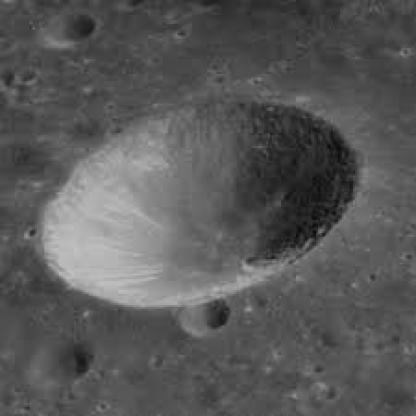craters: (22, 98, 388, 309), (22, 333, 104, 394), (33, 0, 104, 54), (176, 294, 246, 348), (303, 375, 344, 409), (0, 54, 17, 107), (17, 63, 50, 89)
